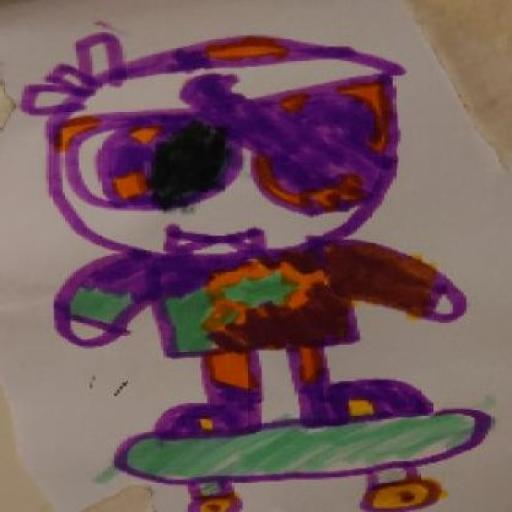person: (7, 0, 478, 447)
